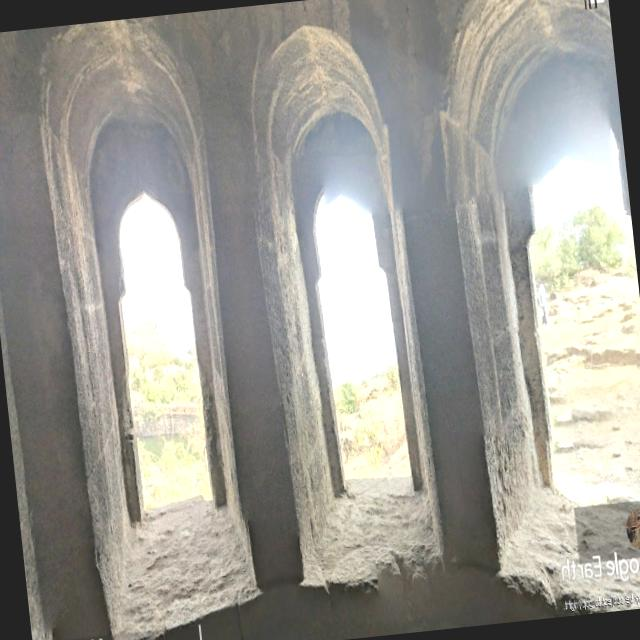objects-ruins-artifacts: (330, 80, 616, 342), (63, 344, 344, 604)
